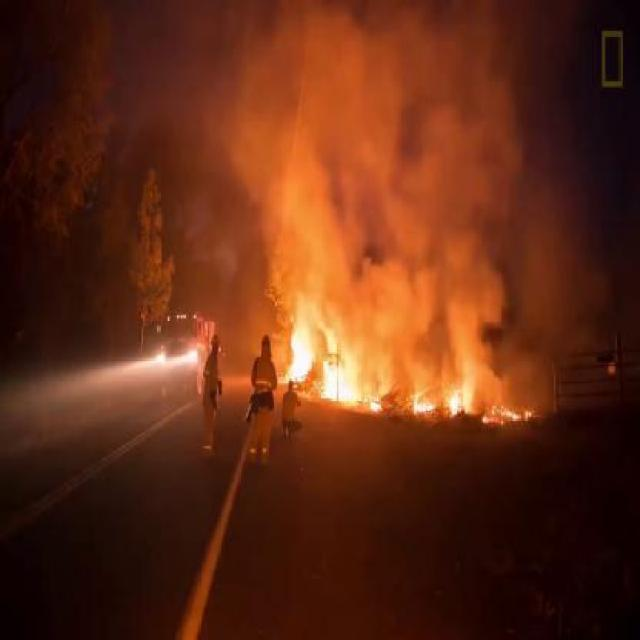Fire: (280, 308, 382, 414), (481, 398, 534, 432), (444, 378, 472, 417), (410, 392, 436, 416)
